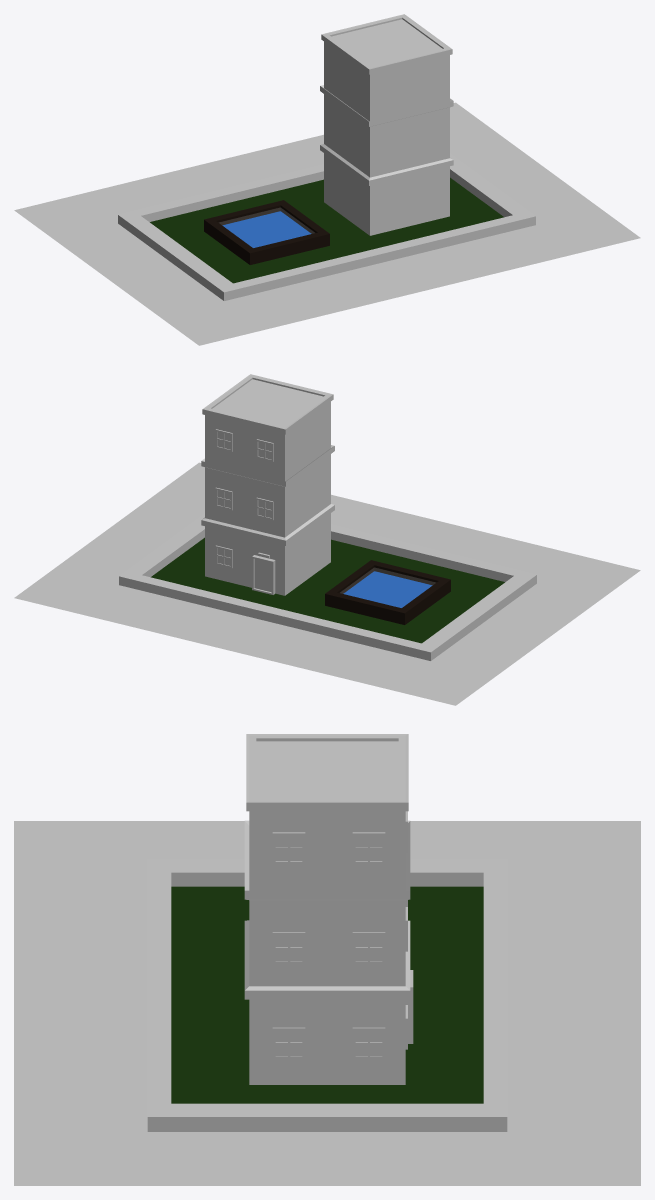
3 renders of one model, top to bottom at view 1: azimuth 30°, elevation 25°; view 2: azimuth 150°, elevation 25°; view 3: azimuth 270°, elevation 25°, orthographic. The views are drawn at different scales.
Parts seen in each view (by area): view 1: Plane.004, Cube, Cube.017, Prato, Plane.001, Plane.006; view 2: Plane.004, Cube, Cube.017, Prato, Plane.001, Plane.006, Cube.006; view 3: Plane.004, Cube, Prato, Cube.017, Cube.007, Cube.008, Cube.011, Cube.012, Cube.009, Cube.010.
Part boxes in pixels (x1,y1,x2,y2): Plane.004: (14,102,640,345); Cube: (320,14,453,235); Cube.017: (118,153,535,300); Prato: (150,177,503,283); Plane.001: (204,200,329,264); Plane.006: (220,208,314,247); Plane.004: (14,462,640,705); Cube: (201,374,334,595); Cube.017: (119,513,536,660); Prato: (151,537,504,643); Plane.001: (325,560,450,624); Plane.006: (340,568,434,607); Cube.006: (252,555,275,594); Plane.004: (14,821,640,1185); Cube: (244,734,410,1084); Prato: (171,886,483,1103); Cube.017: (147,859,507,1131); Cube.007: (272,832,305,864); Cube.008: (352,832,385,864); Cube.011: (272,1027,305,1059); Cube.012: (352,1027,385,1059); Cube.009: (272,932,305,963); Cube.010: (352,932,385,963).
Size of the model in its own units: 11.05 by 4.1 by 8.02.
